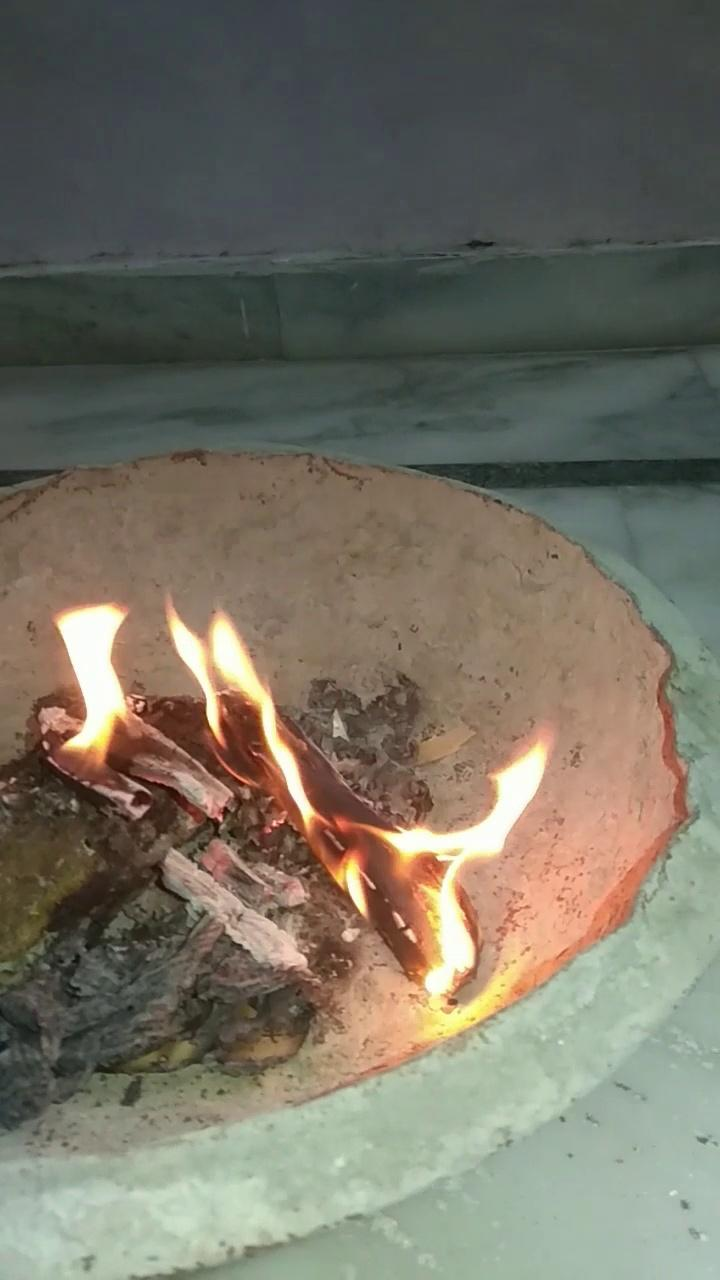fire: (52, 595, 585, 990)
